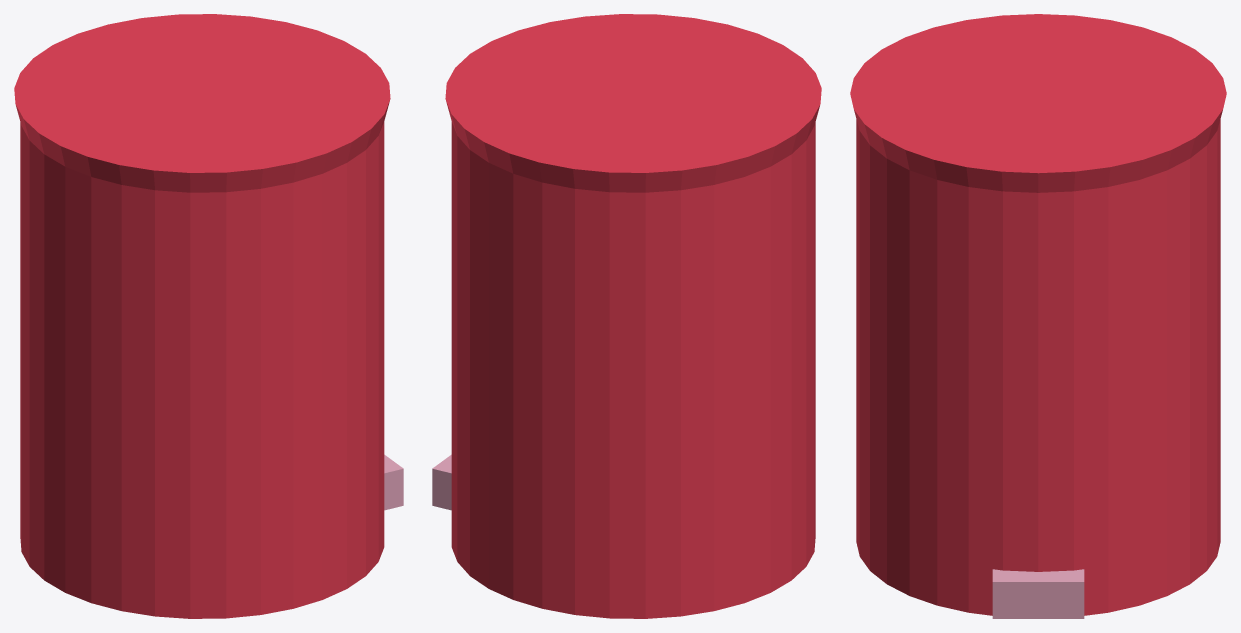
Rendered from Modern bin.fbx.
3 views of the same model, side by side, from view 1: azimuth 30°, elevation 25°; view 2: azimuth 150°, elevation 25°; view 3: azimuth 270°, elevation 25° (orthographic).
Visible parts, largest first — view 1: Cylinder, Cube.001; view 2: Cylinder, Cube.001; view 3: Cylinder, Cube.001.
Boxes of the visible parts, x1=… form: Cylinder: x1=14, y1=14, x2=390, y2=618; Cube.001: x1=384, y1=454, x2=403, y2=510; Cylinder: x1=445, y1=14, x2=821, y2=618; Cube.001: x1=432, y1=454, x2=451, y2=510; Cylinder: x1=850, y1=14, x2=1226, y2=615; Cube.001: x1=992, y1=569, x2=1084, y2=618.
Bounding box in the file's own units: 64.4 × 80.78 × 61.55.
